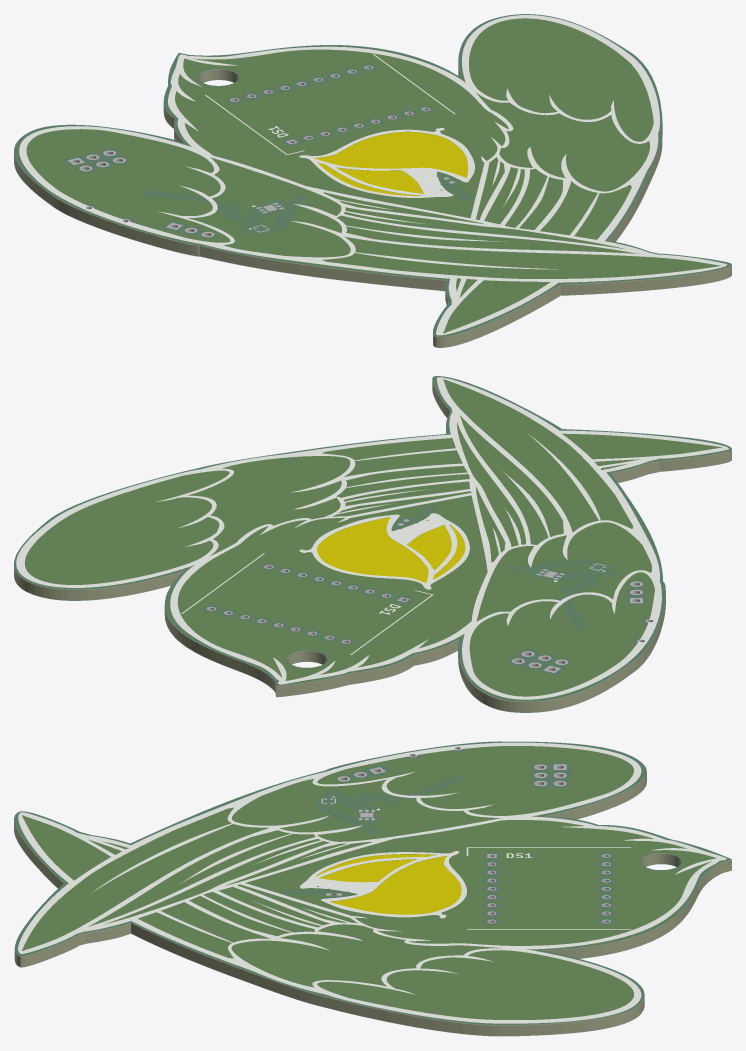
File: soldering-canary-working-title.glb
3 renders of one model, top to bottom at view 1: azimuth 30°, elevation 25°; view 2: azimuth 150°, elevation 25°; view 3: azimuth 270°, elevation 25°, orthographic.
Visible parts, largest first — view 1: =>[0:1:1:7], =>[0:1:1:2], =>[0:1:1:5], =>[0:1:1:9]; view 2: =>[0:1:1:7], =>[0:1:1:2], =>[0:1:1:5], =>[0:1:1:9]; view 3: =>[0:1:1:7], =>[0:1:1:2], =>[0:1:1:5], =>[0:1:1:9].
Boxes of the visible parts, left/top/right/bottom form: =>[0:1:1:7]: left=14, top=14, right=731, bottom=347; =>[0:1:1:2]: left=18, top=19, right=716, bottom=332; =>[0:1:1:5]: left=19, top=15, right=727, bottom=335; =>[0:1:1:9]: left=14, top=15, right=731, bottom=347; =>[0:1:1:7]: left=14, top=376, right=731, bottom=712; =>[0:1:1:2]: left=25, top=380, right=720, bottom=699; =>[0:1:1:5]: left=16, top=377, right=728, bottom=699; =>[0:1:1:9]: left=14, top=377, right=731, bottom=712; =>[0:1:1:7]: left=14, top=741, right=731, bottom=1036; =>[0:1:1:2]: left=19, top=746, right=713, bottom=1019; =>[0:1:1:5]: left=18, top=742, right=726, bottom=1023; =>[0:1:1:9]: left=14, top=742, right=731, bottom=1035.
Size of the model in its own units: 0.088 by 0.00166 by 0.0941.
Materials: 4 (4 with a texture image).
